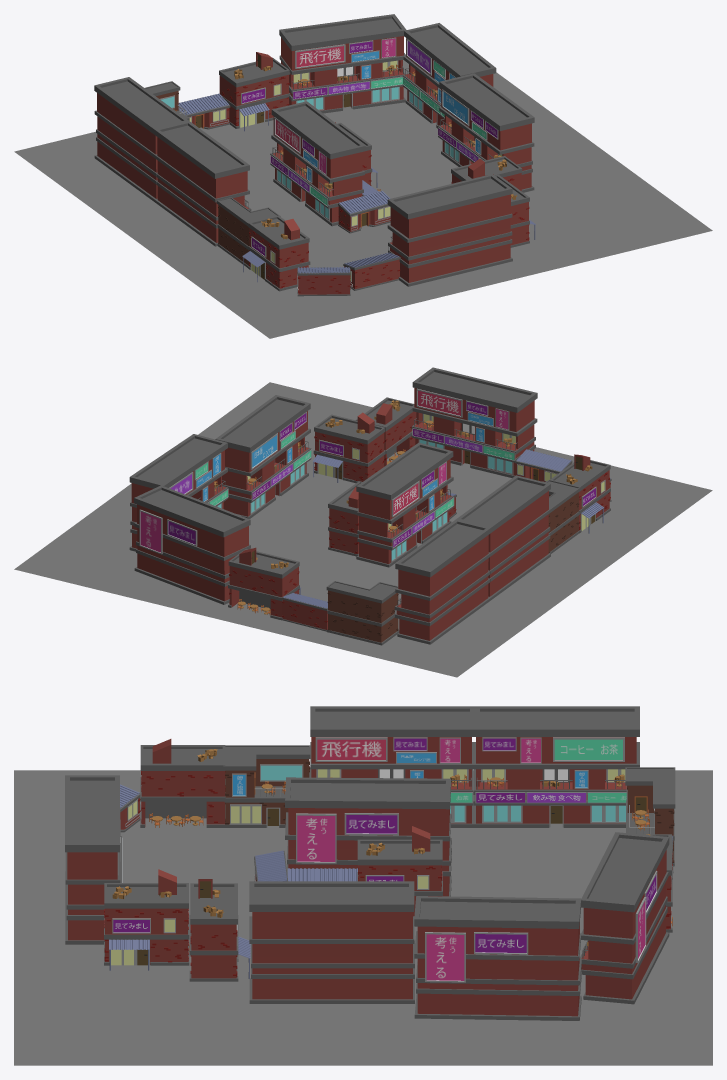
File: best_local.fbx
3 views of the same model, one above another, from view 1: azimuth 30°, elevation 25°; view 2: azimuth 150°, elevation 25°; view 3: azimuth 270°, elevation 25° (orthographic). The views are drawn at different scales.
Visible parts, largest first — view 1: Plane, Cube.009, Cube.028, Cube.002, Cube.008, Cube.022, Cube.011, Cube.029, Cube.027, Cube.003, Cube, Cube.006 (+7 smaller); view 2: Plane, Cube.009, Cube.028, Cube.011, Cube.002, Cube.022, Cube.008, Cube.029, Cube.025, Cube.024, Cube.027, Cube.003 (+5 smaller); view 3: Plane, Cube.029, Cube.022, Cube.011, Cube.008, Cube.002, Cube.028, Cube.009, Cube.007, Cube.003, Cube, Cube.025 (+6 smaller).
Boxes of the visible parts, left/top/right/bottom form: Plane: left=14, top=60, right=712, bottom=338; Cube.009: left=387, top=174, right=512, bottom=286; Cube.028: left=279, top=14, right=406, bottom=113; Cube.002: left=270, top=101, right=365, bottom=226; Cube.008: left=154, top=121, right=251, bottom=246; Cube.022: left=438, top=73, right=534, bottom=192; Cube.011: left=94, top=77, right=188, bottom=201; Cube.029: left=402, top=23, right=496, bottom=128; Cube.027: left=219, top=52, right=290, bottom=131; Cube.003: left=242, top=215, right=310, bottom=291; Cube: left=216, top=197, right=280, bottom=267; Cube.006: left=338, top=191, right=390, bottom=233; Plane: left=14, top=382, right=712, bottom=677; Cube.009: left=411, top=367, right=537, bottom=477; Cube.028: left=134, top=485, right=250, bottom=604; Cube.011: left=394, top=519, right=490, bottom=644; Cube.002: left=356, top=442, right=454, bottom=567; Cube.022: left=215, top=395, right=311, bottom=518; Cube.008: left=456, top=475, right=550, bottom=599; Cube.029: left=129, top=434, right=228, bottom=551; Cube.025: left=312, top=412, right=385, bottom=483; Cube.024: left=326, top=581, right=399, bottom=645; Cube.027: left=228, top=547, right=300, bottom=620; Cube.003: left=549, top=454, right=610, bottom=533; Plane: left=14, top=770, right=712, bottom=1065; Cube.029: left=414, top=896, right=581, bottom=1020; Cube.022: left=249, top=881, right=414, bottom=1003; Cube.011: left=474, top=706, right=639, bottom=827; Cube.008: left=309, top=706, right=475, bottom=827; Cube.002: left=285, top=777, right=451, bottom=896; Cube.028: left=580, top=832, right=669, bottom=1004; Cube.009: left=65, top=775, right=122, bottom=944; Cube.007: left=104, top=869, right=189, bottom=970; Cube.003: left=140, top=739, right=225, bottom=827; Cube: left=223, top=745, right=310, bottom=827; Cube.025: left=189, top=879, right=250, bottom=981.
Bounding box in the file's own units: 33507 × 5403 × 33507.
